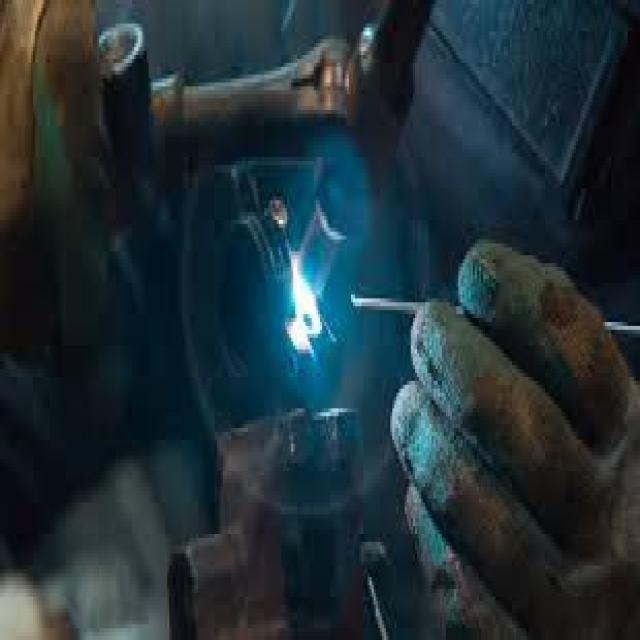welding: (288, 256, 322, 356)
